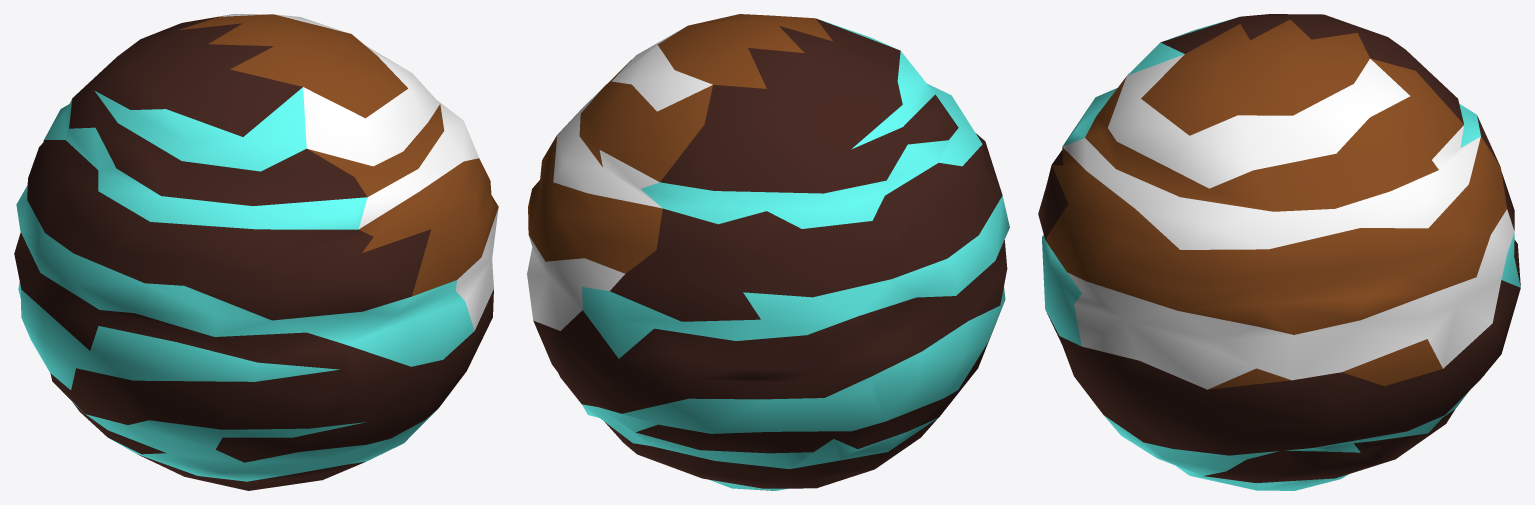
File: Planet_B_002.fbx
3 views of the same model, side by side, from view 1: azimuth 30°, elevation 25°; view 2: azimuth 150°, elevation 25°; view 3: azimuth 270°, elevation 25° (orthographic).
Visible parts, largest first — view 1: cloud:Planet_B_002; view 2: cloud:Planet_B_002; view 3: cloud:Planet_B_002.
Part boxes in pixels (<box>): cloud:Planet_B_002: <box>14,14,498,490</box>; cloud:Planet_B_002: <box>527,14,1009,490</box>; cloud:Planet_B_002: <box>1038,14,1520,490</box>.
Bounding box in the file's own units: 592 × 598 × 601.
